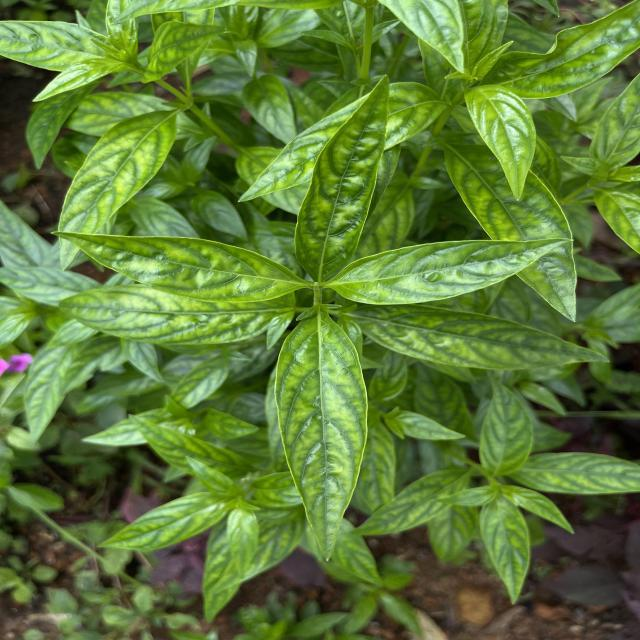Andrographis paniculata: (438, 139, 584, 325), (271, 310, 372, 566), (290, 71, 393, 286), (51, 109, 182, 271), (47, 227, 310, 304), (352, 300, 615, 373), (326, 234, 574, 306), (54, 287, 296, 348), (346, 466, 469, 538), (463, 85, 538, 202), (94, 492, 231, 554), (22, 323, 84, 448), (512, 448, 640, 496), (474, 376, 536, 474), (478, 498, 533, 606)
